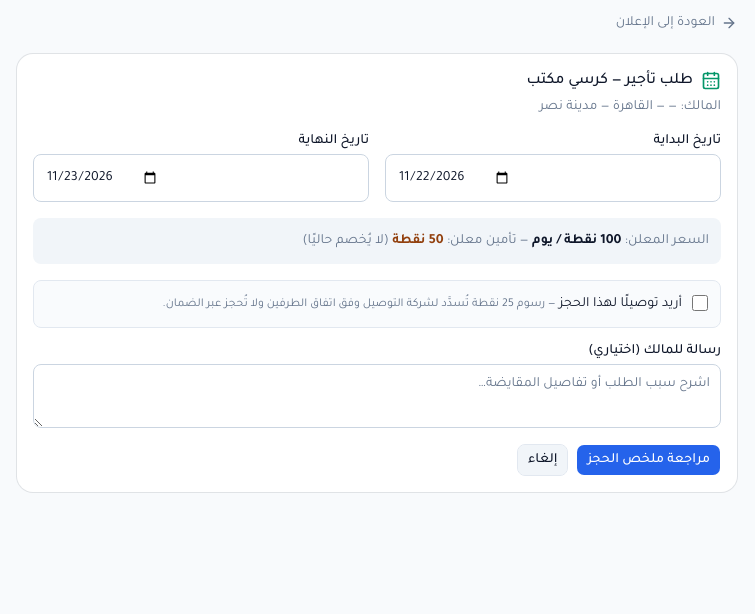
A6 delivery in the booking flow (SRS §9.2 · 0033) › shows the opt-in + address field only when the listing offers delivery
Expected: the text "تاريخ البداية" is shown, [654,134,721,148]
Expected: the text "أريد توصيلًا لهذا الحجز" is shown, [559,297,682,311]
Click the checkbox labelled "أريد توصيلًا لهذا الحجز" at (700, 303), box [692,295,708,311]
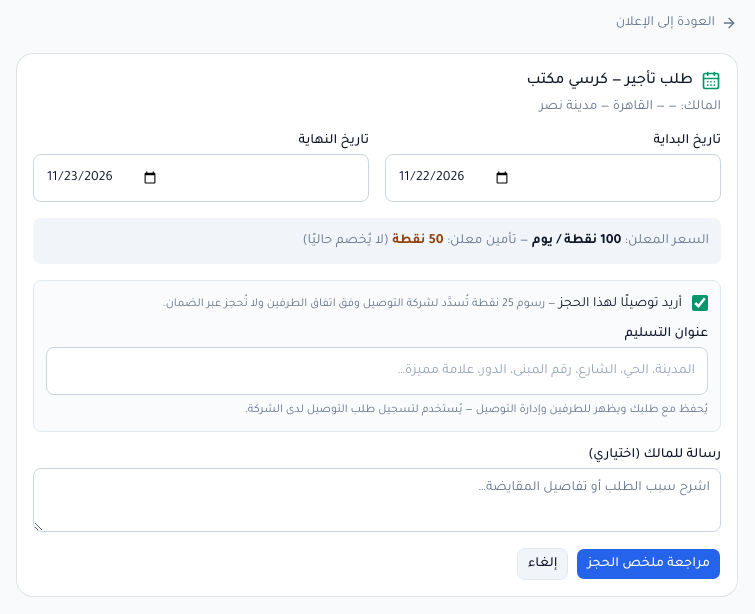
Expected: the field labelled "عنوان التسليم" is shown, [46,347,708,395]
